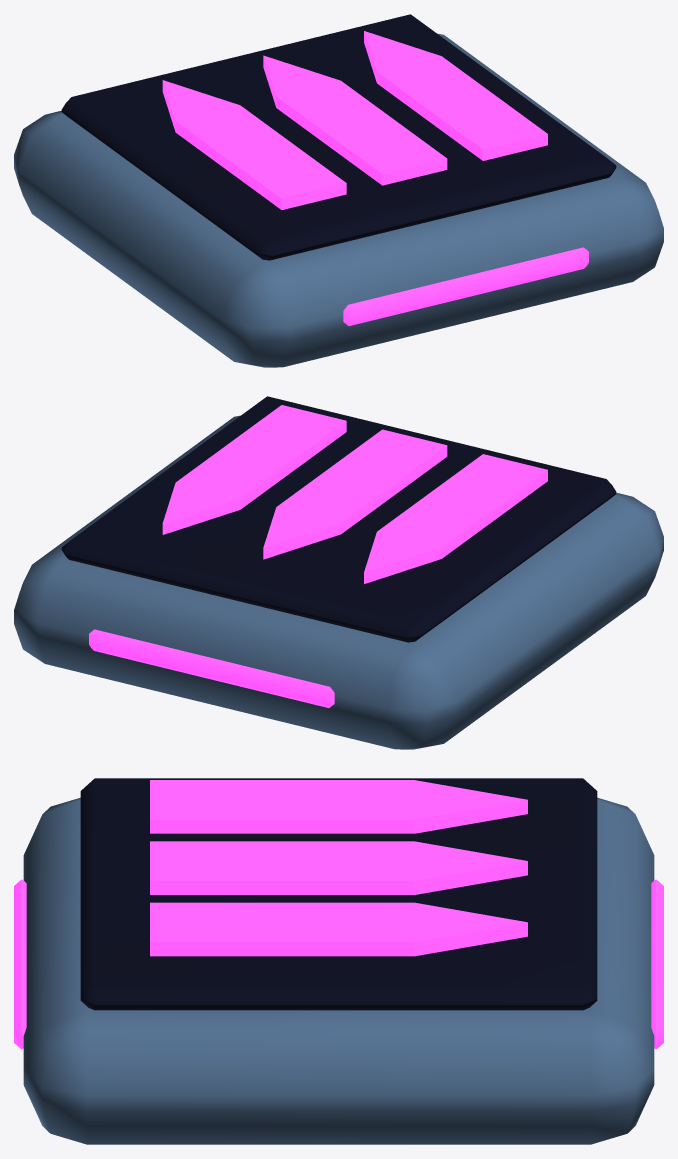
Rendered from NT_Pickup_Ammo.fbx.
The picture shows the model from 3 angles, top to bottom: view 1: azimuth 30°, elevation 25°; view 2: azimuth 150°, elevation 25°; view 3: azimuth 270°, elevation 25°; orthographic projection. The views are drawn at different scales.
Parts seen in each view (by area): view 1: NT_Pickup_Ammo__PickupMesh; view 2: NT_Pickup_Ammo__PickupMesh; view 3: NT_Pickup_Ammo__PickupMesh.
Part boxes in pixels (x1,y1,x2,y2): NT_Pickup_Ammo__PickupMesh: (14, 14, 663, 367); NT_Pickup_Ammo__PickupMesh: (14, 396, 663, 749); NT_Pickup_Ammo__PickupMesh: (14, 778, 663, 1144).
Bounding box in the file's own units: 1 × 0.306 × 1.03.
